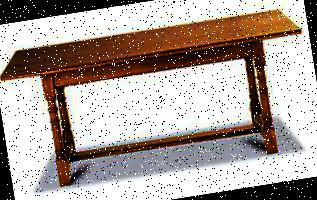Mesa: (0, 6, 316, 194)
